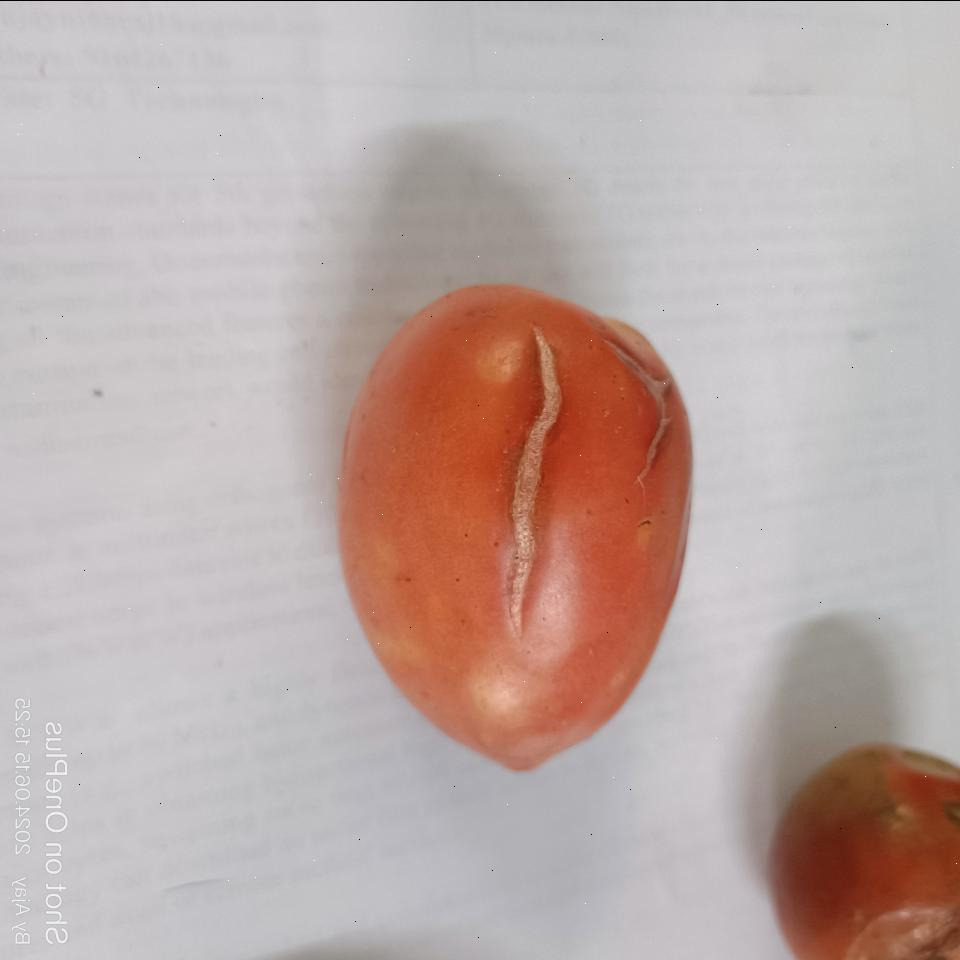Cracking: (508, 310, 582, 625)
